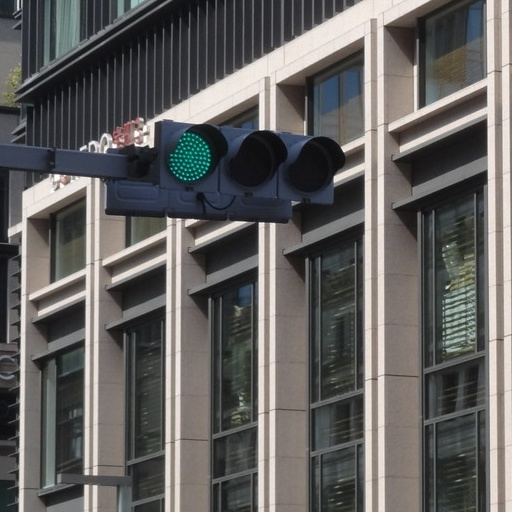Traffic_Signal_Blue: (153, 117, 344, 207)
